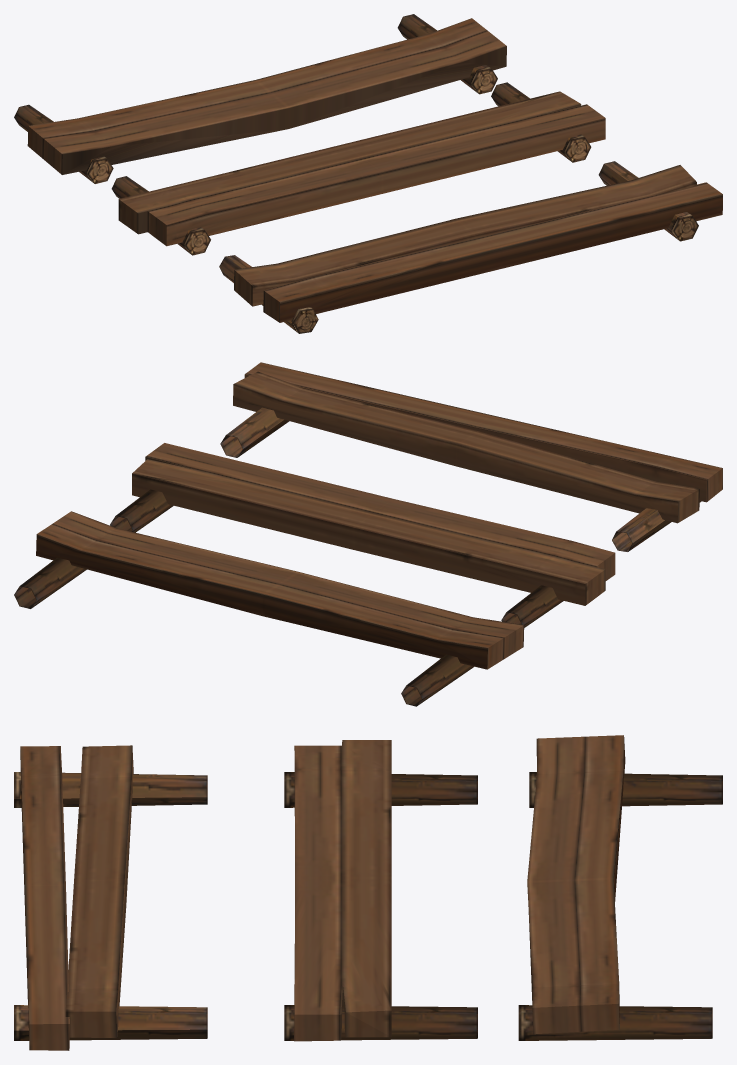
File: 2_YiZhan_ZaWu_MuTaBan_01.FBX
3 views of the same model, one above another, from view 1: azimuth 30°, elevation 25°; view 2: azimuth 150°, elevation 25°; view 3: azimuth 270°, elevation 25° (orthographic). The views are drawn at different scales.
Parts seen in each view (by area): view 1: 2_YiZhan_ZaWu_MuTaBan_01, 2_YiZhan_ZaWu_MuTaBan_02, 2_YiZhan_ZaWu_MuTaBan_03; view 2: 2_YiZhan_ZaWu_MuTaBan_02, 2_YiZhan_ZaWu_MuTaBan_01, 2_YiZhan_ZaWu_MuTaBan_03; view 3: 2_YiZhan_ZaWu_MuTaBan_02, 2_YiZhan_ZaWu_MuTaBan_01, 2_YiZhan_ZaWu_MuTaBan_03.
Part boxes in pixels (<box>): 2_YiZhan_ZaWu_MuTaBan_01: <box>219,161,722,333</box>; 2_YiZhan_ZaWu_MuTaBan_02: <box>111,82,605,255</box>; 2_YiZhan_ZaWu_MuTaBan_03: <box>14,14,506,183</box>; 2_YiZhan_ZaWu_MuTaBan_02: <box>110,443,615,627</box>; 2_YiZhan_ZaWu_MuTaBan_01: <box>220,362,722,551</box>; 2_YiZhan_ZaWu_MuTaBan_03: <box>14,511,524,706</box>; 2_YiZhan_ZaWu_MuTaBan_02: <box>284,740,477,1041</box>; 2_YiZhan_ZaWu_MuTaBan_01: <box>14,745,207,1050</box>; 2_YiZhan_ZaWu_MuTaBan_03: <box>518,735,722,1040</box>.
Bounding box in the file's own units: 358 × 29.62 × 380.
Materials: 1 (1 with a texture image).
